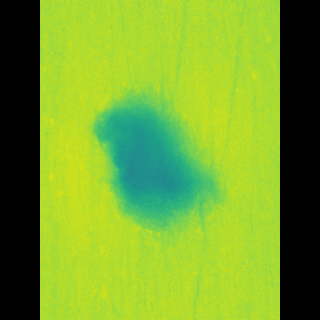Loch: (104, 88, 205, 235)
